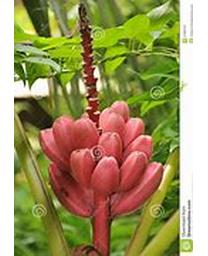banana: (40, 99, 167, 220)
